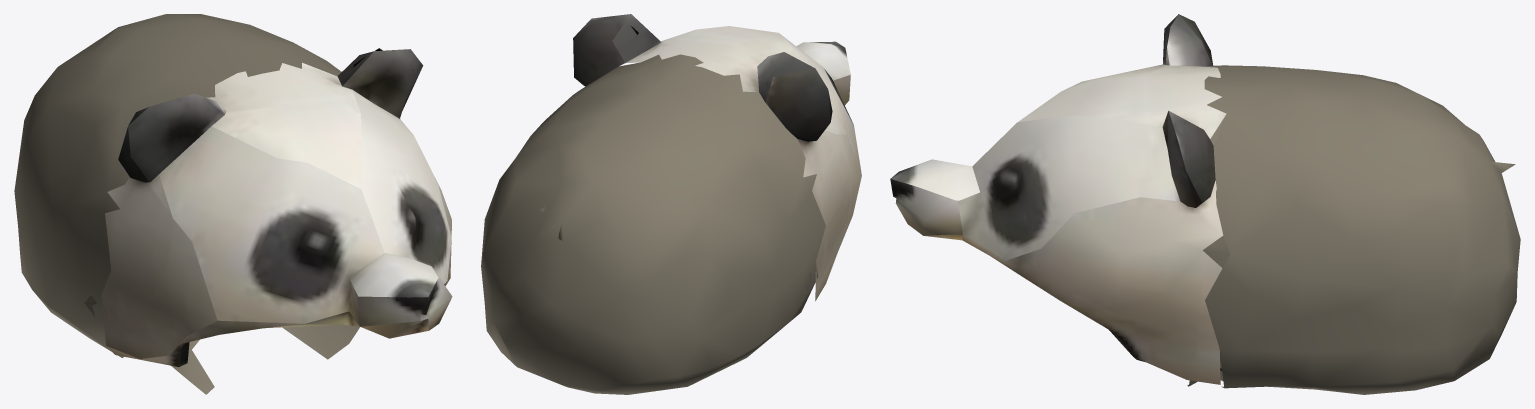
The model's file is panda.glb.
The picture shows the model from 3 angles, left to right: view 1: azimuth 30°, elevation 25°; view 2: azimuth 150°, elevation 25°; view 3: azimuth 270°, elevation 25°; orthographic projection. The views are drawn at different scales.
Parts seen in each view (by area): view 1: geometry_0, HoodAnatomicalLining; view 2: geometry_0; view 3: geometry_0, HoodAnatomicalLining.
Part boxes in pixels (x1,y1,x2,y2): geometry_0: (14,14,452,366); HoodAnatomicalLining: (84,296,359,394); geometry_0: (481,14,861,394); geometry_0: (890,14,1520,394); HoodAnatomicalLining: (1187,114,1230,386).
Size of the model in its own units: 0.467 by 0.443 by 0.8628.
2 materials, 1 textured.
